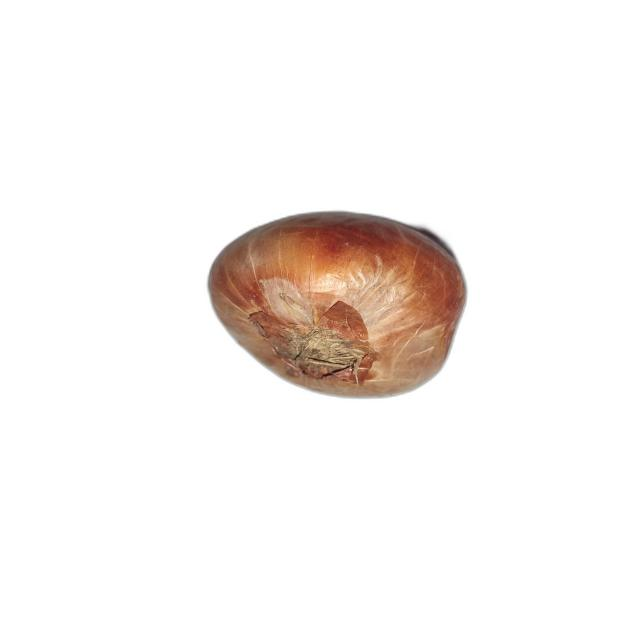onion: (207, 211, 470, 399)
